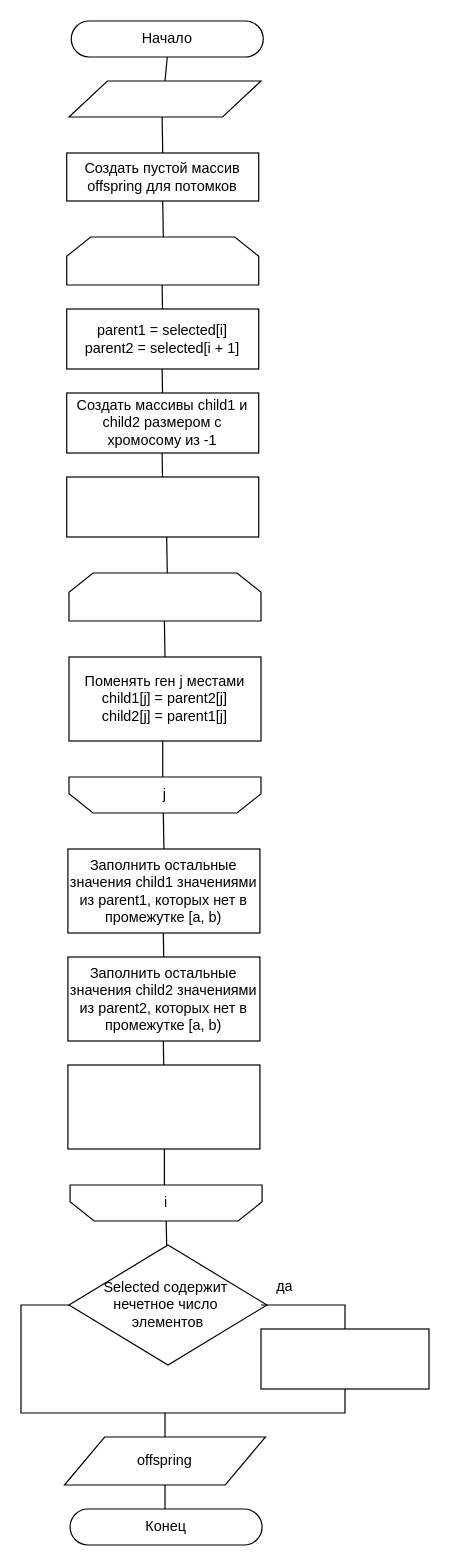
Some shapes in this 450 by 1566 pixel diagram are drawn without their labels. Here are the shapes that lost their labels. From the top down, the box of each, then its label:
(68, 80, 261, 117): selected
(66, 236, 259, 285): Цикл i от 0 до selected.Count - 1 с шагом 2
(66, 476, 259, 537): a, b - случайные числа от 0 до размера хромосомы a < b
(68, 572, 261, 621): Цикл j от a до b
(67, 1064, 260, 1149): Добавить child1, child2 в offspring
(260, 1328, 429, 1389): Добавить в offspring последнюю особь из selected
